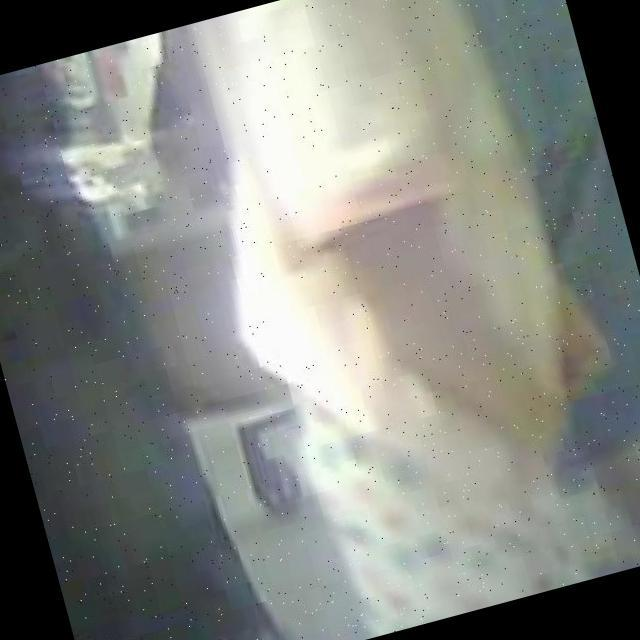person: (160, 0, 640, 640), (0, 40, 294, 640)
